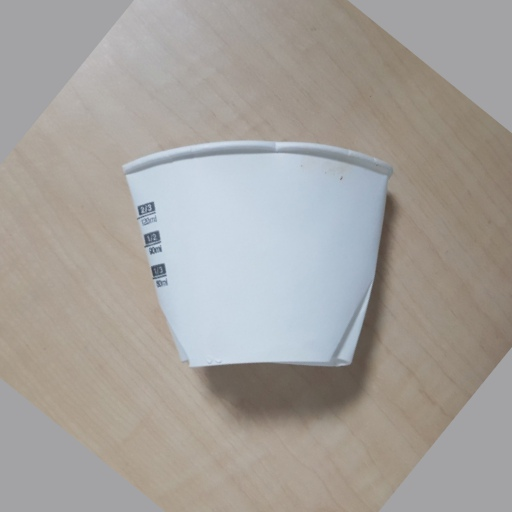Paper_1: (119, 138, 395, 378)
